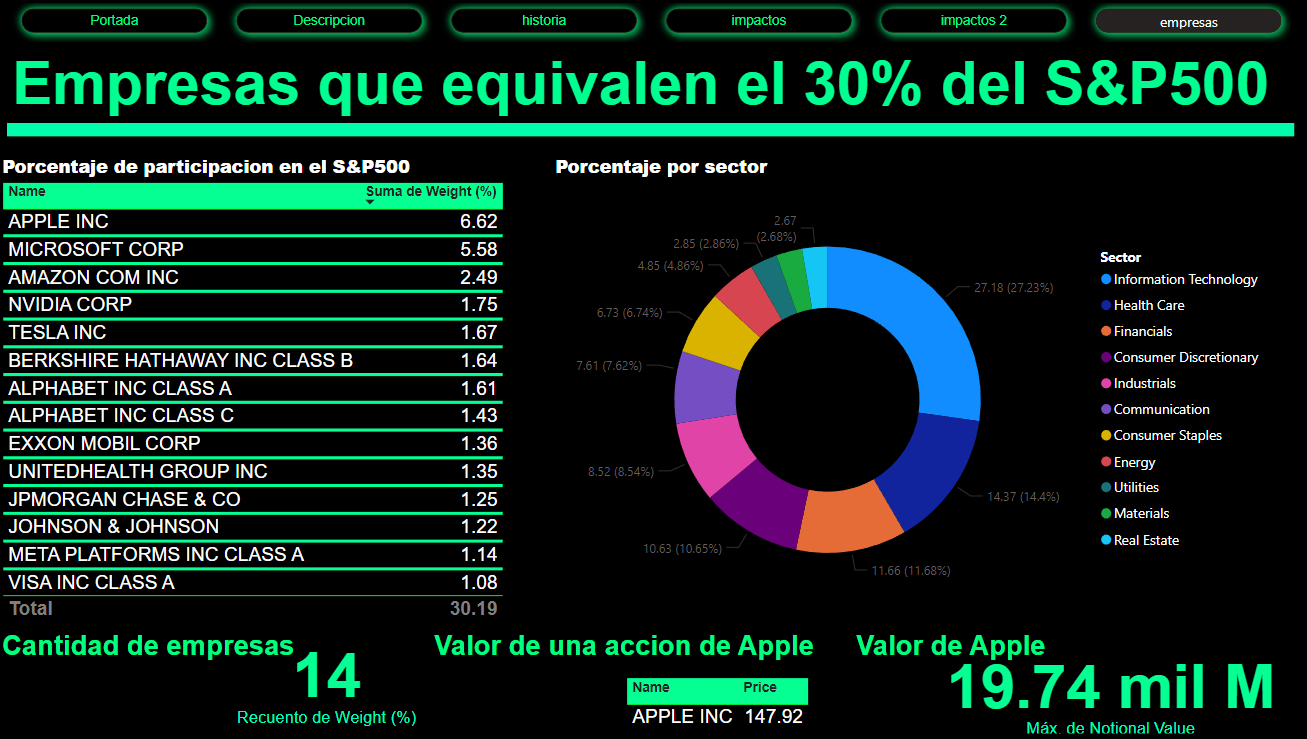

The page's visual inventory and layout, read from the dashboard file:
{"tool":"powerbi","page":{"name":"empresas","canvas":[1280,720],"ordinal":5},"visuals":[{"type":"tableEx","title":"Porcentaje de participacion en el S&P500","fields":{"Values":["Datos_blackrock.Name","Datos_blackrock.Weight (%)"]},"box":[0,149.8,508.7,475.6],"z":0},{"type":"card","fields":{"Values":["Datos_blackrock.Weight (%)"]},"box":[224.7,606,191.6,110.9],"z":1000},{"type":"card","fields":{"Values":["Datos_blackrock.Notional Value"]},"box":[913.3,625.4,340.4,94.3],"z":2000},{"type":"tableEx","fields":{"Values":["Datos_blackrock.Name","Datos_blackrock.Price"]},"box":[606.9,655.6,192.6,64.2],"z":3000},{"type":"pageNavigator","box":[14.6,0,1249.8,42.8],"z":3001},{"type":"textbox","box":[9.7,42.8,1270.3,77.8],"z":3002},{"type":"shape","box":[9.7,120.6,1251.8,12.6],"z":3003},{"type":"textbox","box":[420.2,608.9,449.4,52.5],"z":3004},{"type":"textbox","box":[830.6,608.9,449.4,52.5],"z":3005},{"type":"textbox","box":[0,608.9,449.4,52.5],"z":3006},{"type":"donutChart","title":"Porcentaje por sector","fields":{"Y":["Datos_blackrock.Weight (%)"],"Category":["Datos_blackrock.Sector"]},"box":[537.9,149.8,703.2,456.2],"z":3007}]}

Visuals, with their boxes on the page's 1280x720 design canvas (x1, y1, x2, y2). These are canvas units, not pixel positions in the 1307x739 screenshot, which may show the page scaled, cropped or inside an application window:
"Porcentaje de participacion en el S&P500" tableEx: BBox(0, 150, 509, 625)
card - Datos_blackrock.Weight (%): BBox(225, 606, 416, 717)
card - Datos_blackrock.Notional Value: BBox(913, 625, 1254, 720)
tableEx - Datos_blackrock.Name x Datos_blackrock.Price: BBox(607, 656, 800, 720)
pageNavigator: BBox(15, 0, 1264, 43)
textbox: BBox(10, 43, 1280, 121)
shape: BBox(10, 121, 1262, 133)
textbox: BBox(420, 609, 870, 661)
textbox: BBox(831, 609, 1280, 661)
textbox: BBox(0, 609, 449, 661)
"Porcentaje por sector" donutChart: BBox(538, 150, 1241, 606)
